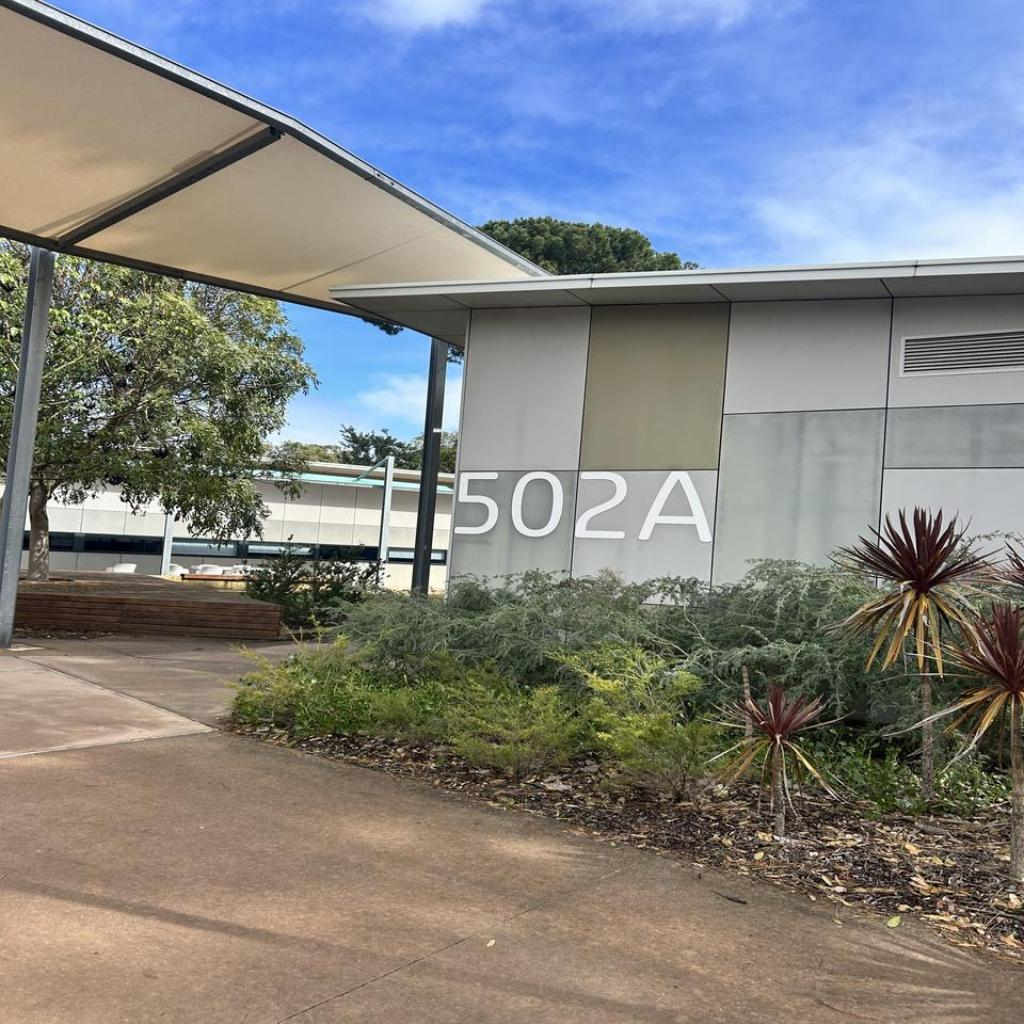BuildingCodes: (452, 466, 714, 546)
